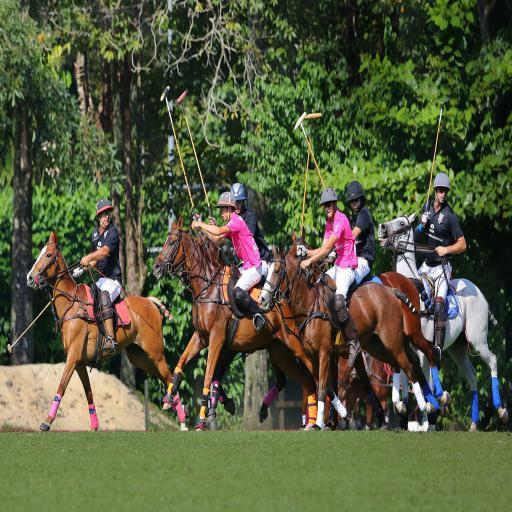horse: (160, 214, 506, 435), (152, 212, 338, 432), (284, 220, 455, 430), (259, 242, 437, 432), (26, 228, 188, 432), (376, 208, 512, 434)
